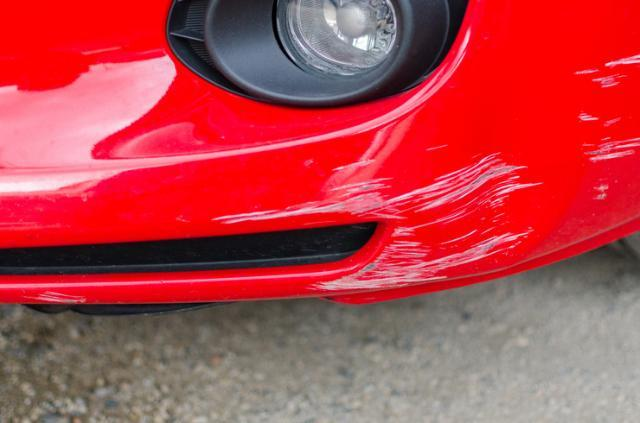Bumper: (30, 90, 640, 293)
